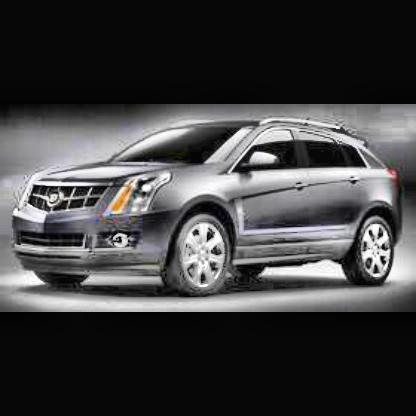Cadillac SRX SUV 2012: (4, 116, 406, 303)
